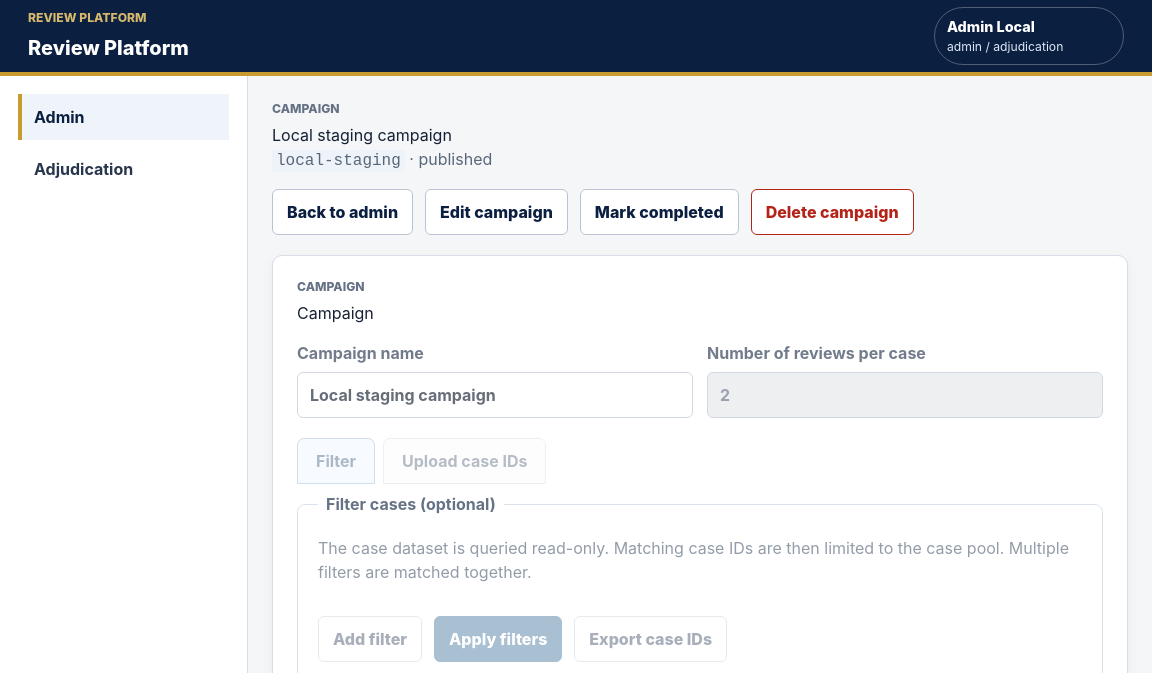
Scenario: lifecycle workflows › marks a published campaign completed and shows the Completed badge
Click the button "Mark completed" at (659, 212), box x1=580 y1=189 x2=739 y2=235
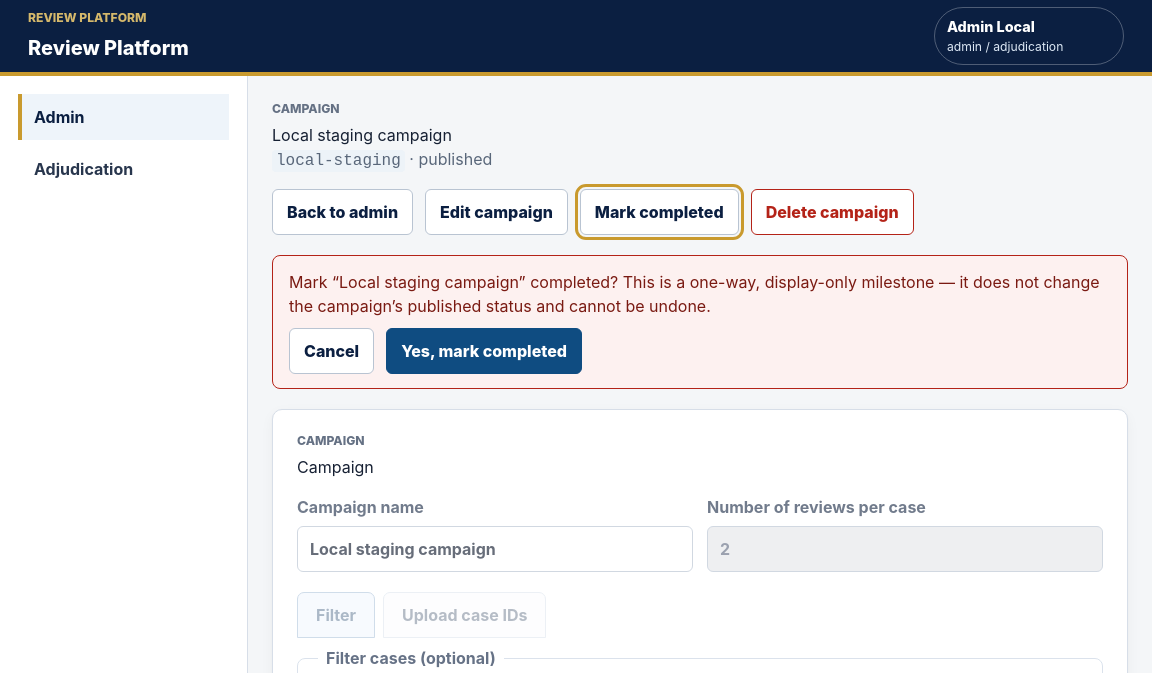
expect the dialog named "confirm mark campaign completed" is shown: met, box x1=272 y1=255 x2=1128 y2=389
Click the button "Yes, mark completed" at (484, 351), box x1=386 y1=328 x2=582 y2=374
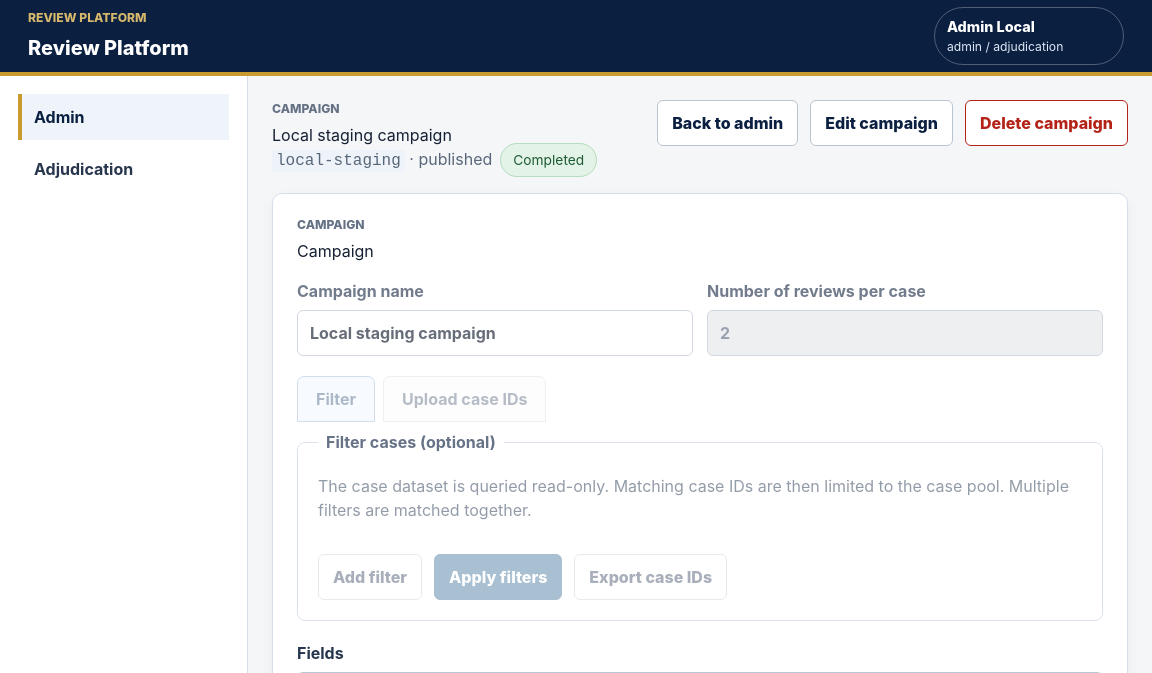
expect the text "Completed" is shown: met, box x1=500 y1=143 x2=597 y2=177
expect the button "Mark completed" is gone: met
